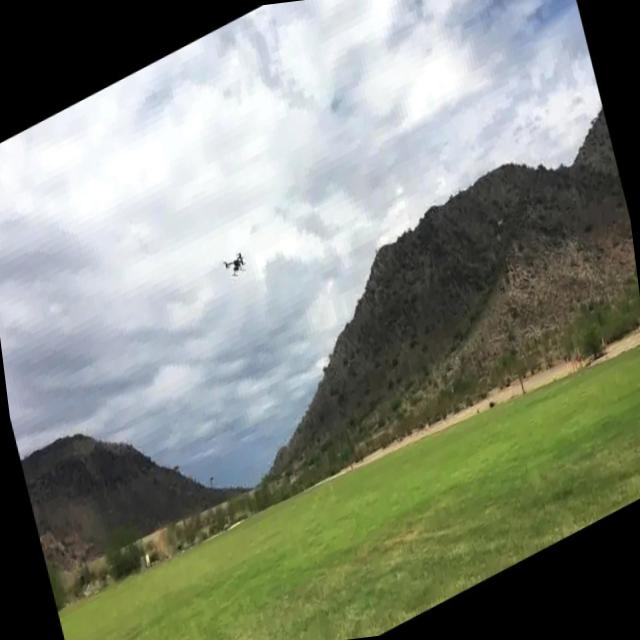drone: (220, 248, 250, 283)
